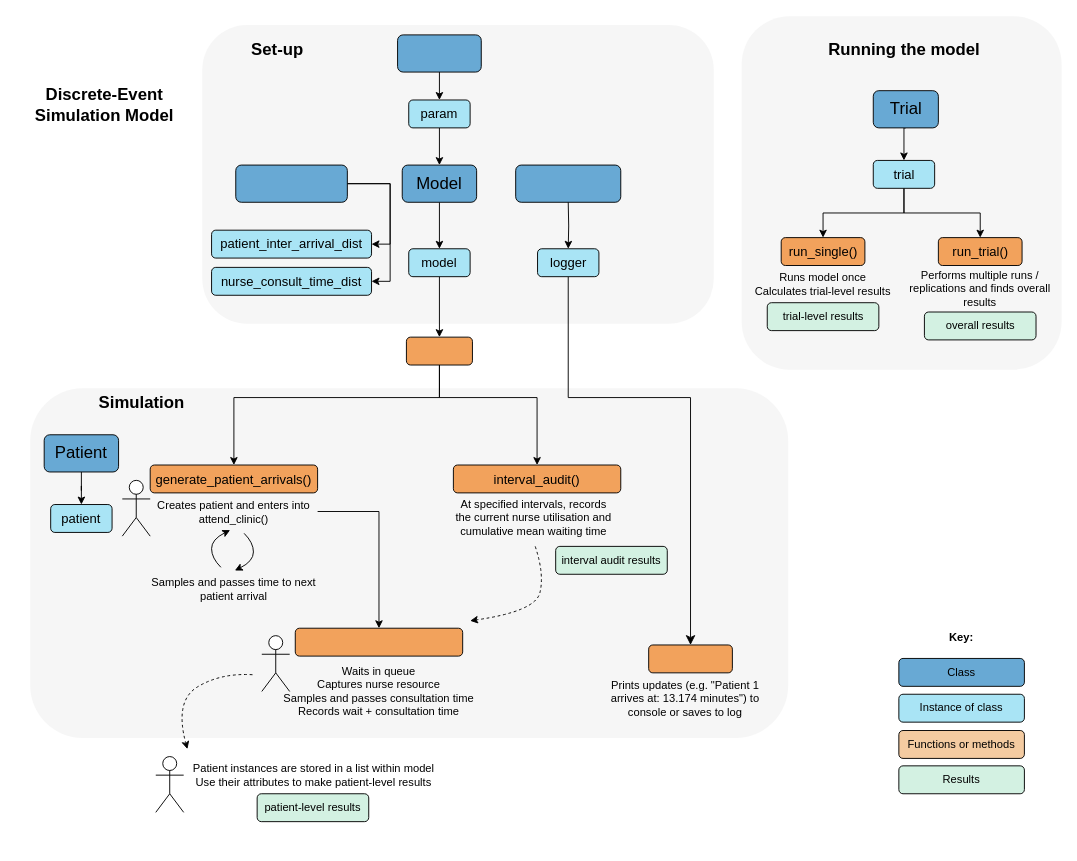
Image size: 1077x861. Some labels were removed from this diagram. The shapes that lost their labels are listed below. From the top down, each one's centre as x and y in pixels, then its label:
At point (439, 53): "Defaults".
At point (291, 183): "Exponential".
At point (568, 183): "Sim_Logger".
At point (438, 350): "run()".
At point (378, 641): "attend_clinic()".
At point (690, 658): "log()".
